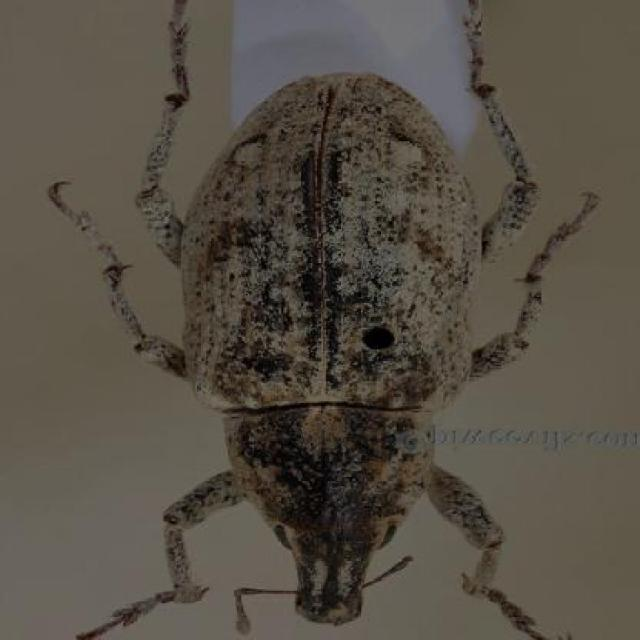rice-bug: (129, 2, 560, 630)
